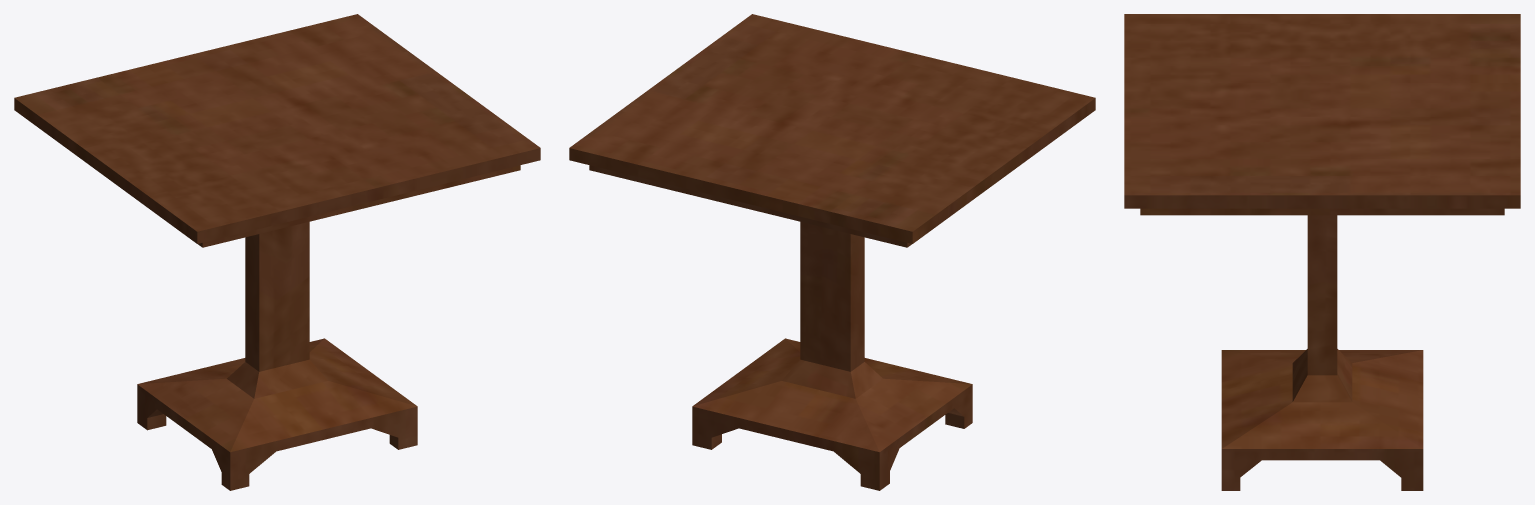
The model's file is Coffee Table.fbx.
3 views of the same model, side by side, from view 1: azimuth 30°, elevation 25°; view 2: azimuth 150°, elevation 25°; view 3: azimuth 270°, elevation 25° (orthographic). The views are drawn at different scales.
Parts seen in each view (by area): view 1: SketchUp.002; view 2: SketchUp.002; view 3: SketchUp.002.
Boxes of the visible parts, x1,y1,x2,y2 form: SketchUp.002: [14, 14, 540, 490]; SketchUp.002: [569, 14, 1095, 490]; SketchUp.002: [1124, 14, 1520, 490].
Bounding box in the file's own units: 88.03 × 76.18 × 81.26.
Materials: 1 (1 with a texture image).
